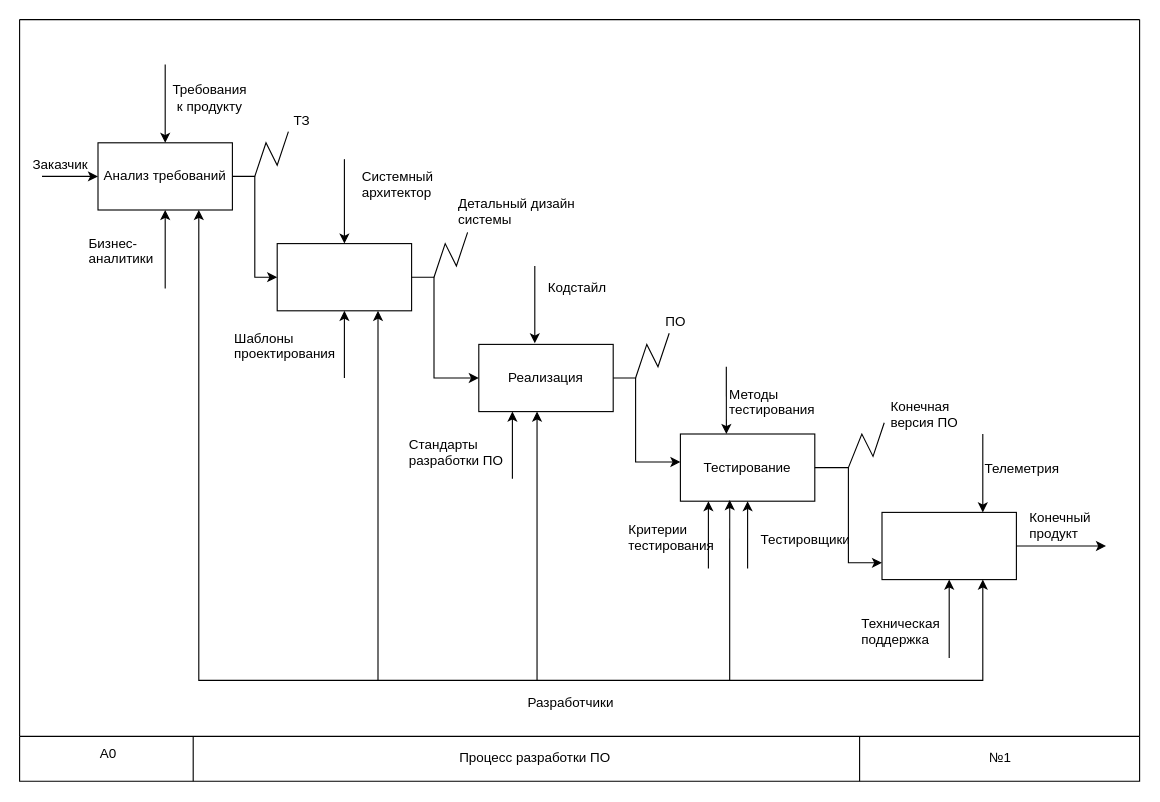
The diagram is 1160 pixels wide and 802 high, and some of its shapes have lost their labels. Each missing label, with the box of its shape:
Внедрение и сопровождение: (881, 511, 1016, 580)
Проектирование архитектуры: (276, 242, 412, 311)
